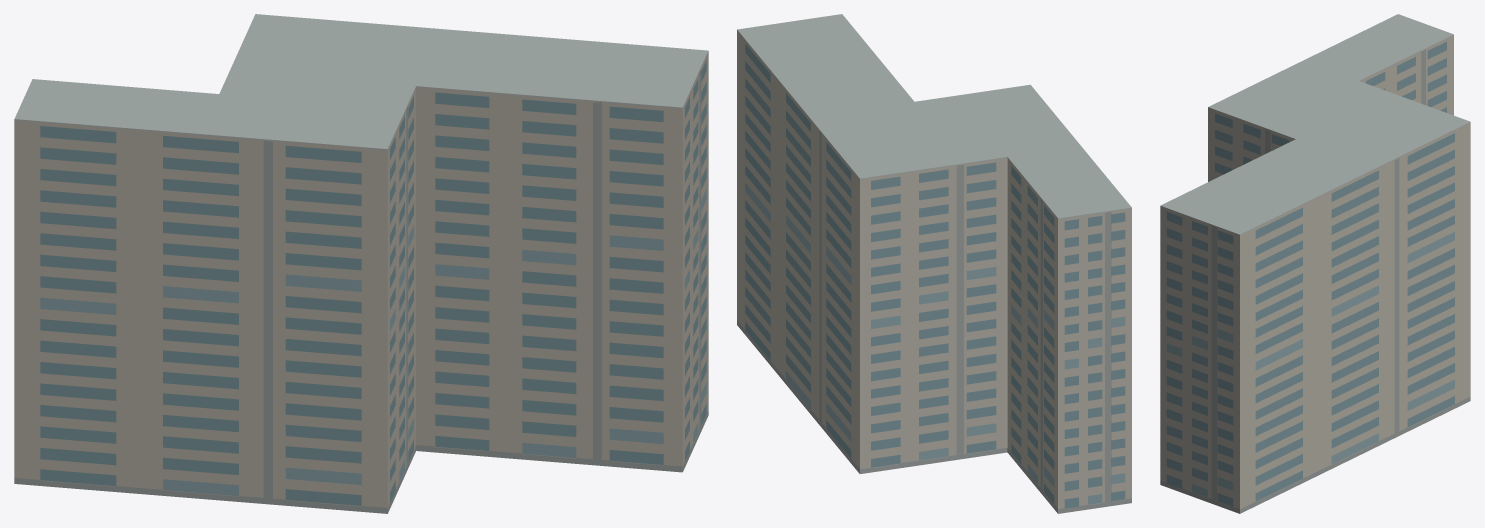
Rendered from residential-792caee5-4fc1-42f5-8c3b-7522bf6b1129.glb.
3 renders of one model, left to right at view 1: azimuth 30°, elevation 25°; view 2: azimuth 150°, elevation 25°; view 3: azimuth 270°, elevation 25°, orthographic. The views are drawn at different scales.
Visible parts, largest first — view 1: residential-792caee5-4fc1-42f5-8c3b-7522bf6b1129.tmp; view 2: residential-792caee5-4fc1-42f5-8c3b-7522bf6b1129.tmp; view 3: residential-792caee5-4fc1-42f5-8c3b-7522bf6b1129.tmp.
Boxes of the visible parts, x1=… form: residential-792caee5-4fc1-42f5-8c3b-7522bf6b1129.tmp: x1=14, y1=14, x2=708, y2=513; residential-792caee5-4fc1-42f5-8c3b-7522bf6b1129.tmp: x1=737, y1=14, x2=1131, y2=513; residential-792caee5-4fc1-42f5-8c3b-7522bf6b1129.tmp: x1=1160, y1=14, x2=1470, y2=513.
Bounding box in the file's own units: 87.88 × 51.85 × 52.25.
